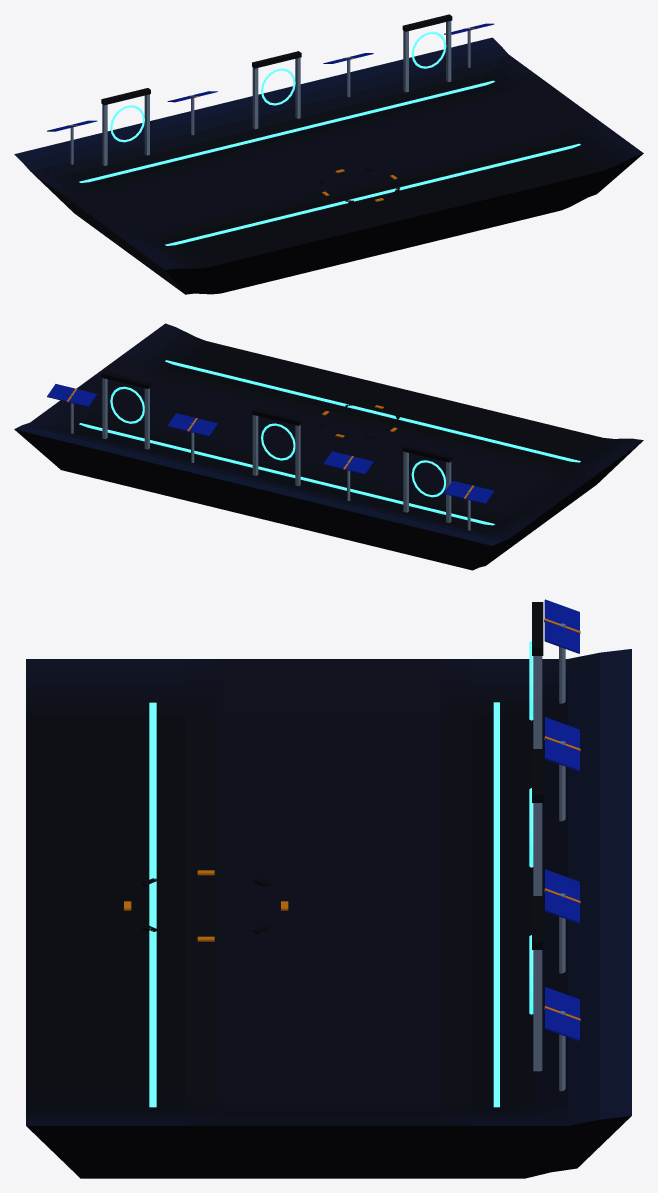
The model's file is sector2_iss_atrium.glb.
3 renders of one model, top to bottom at view 1: azimuth 30°, elevation 25°; view 2: azimuth 150°, elevation 25°; view 3: azimuth 270°, elevation 25°, orthographic. The views are drawn at different scales.
Parts seen in each view (by area): view 1: Sector2ISSAtrium; view 2: Sector2ISSAtrium; view 3: Sector2ISSAtrium.
Part boxes in pixels (x1,y1,x2,y2): Sector2ISSAtrium: (14, 14, 643, 294); Sector2ISSAtrium: (14, 323, 643, 570); Sector2ISSAtrium: (26, 599, 631, 1178).
Size of the model in its own units: 27 by 5.96 by 14.8.
